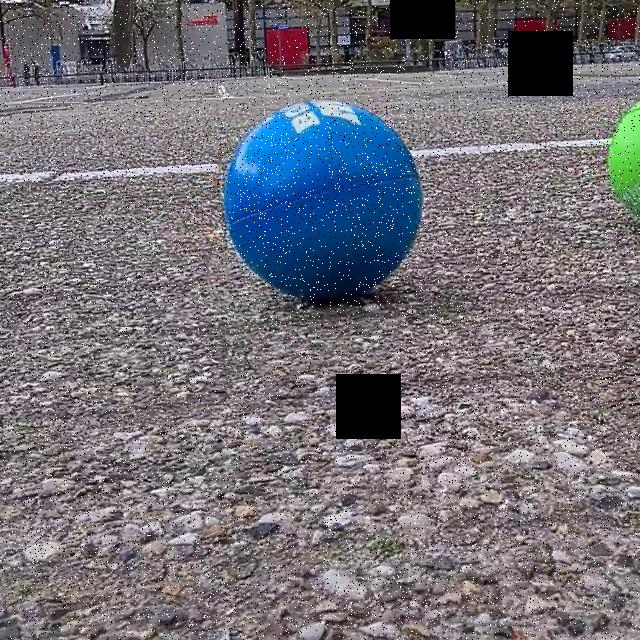ball: (220, 95, 426, 304)
